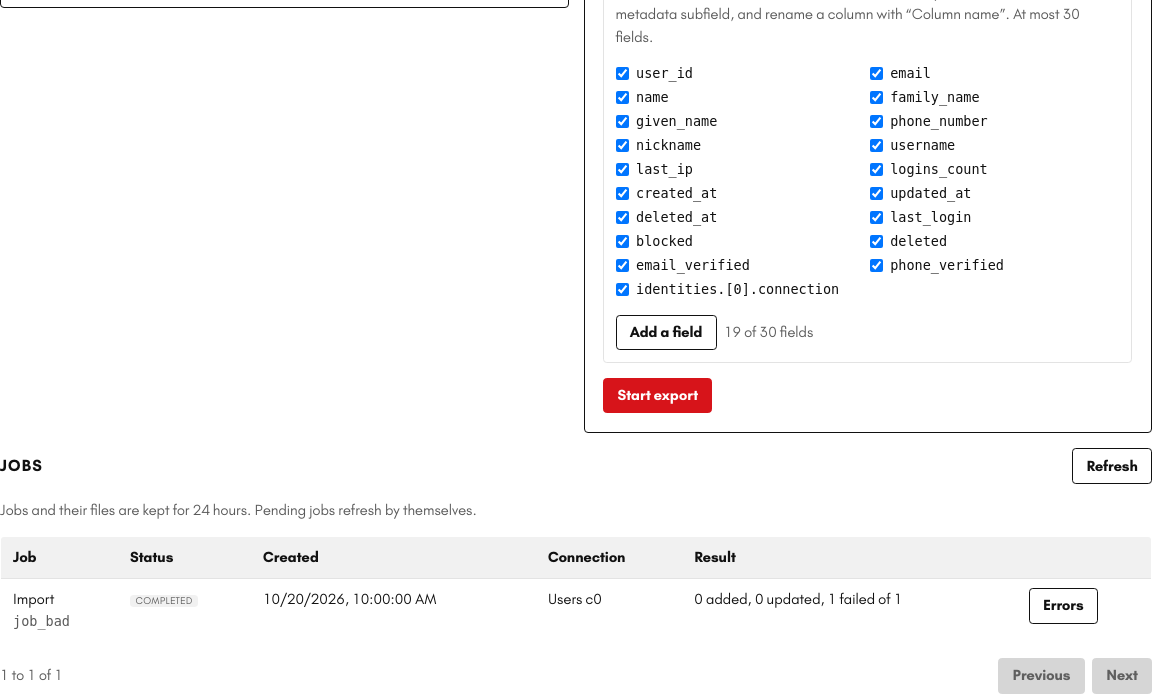
Scenario: errors view › says so when no record failed, when the job has none (204), and when the job failed as a whole
(page scrolled)
Click the button "Errors" at (1063, 606), box left=1029, top=588, right=1098, bottom=624
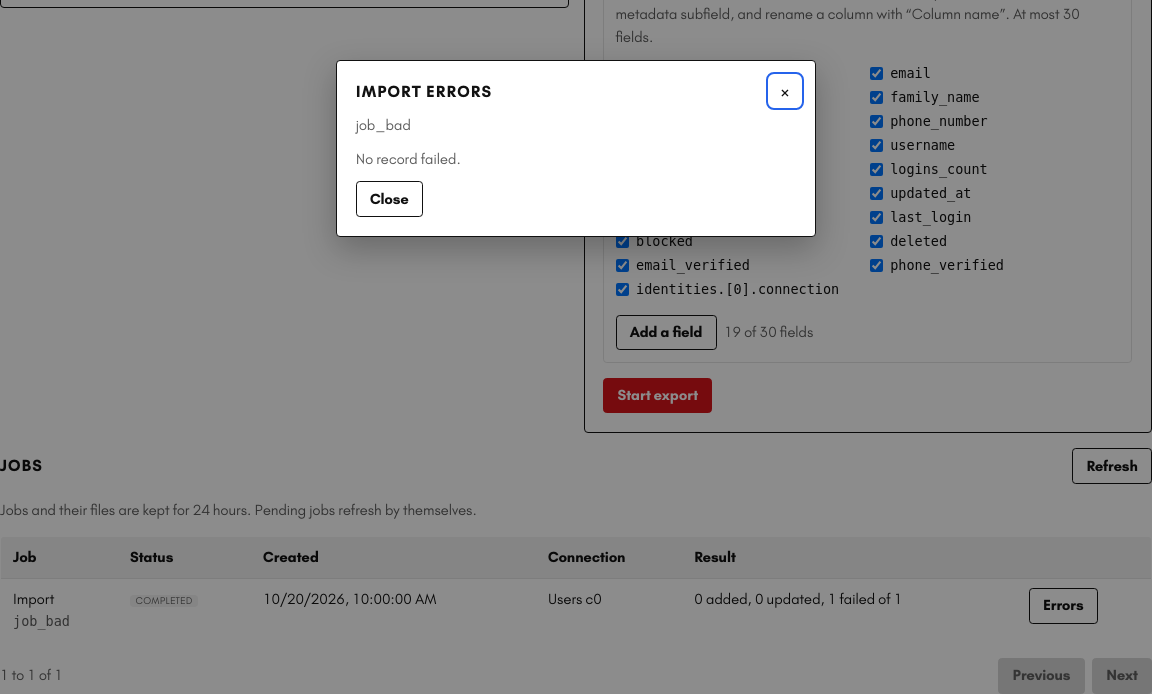
Expected: the dialog shows "No record failed.", left=356, top=150, right=461, bottom=168
Click the button "Close" at (389, 199), box left=356, top=181, right=423, bottom=217
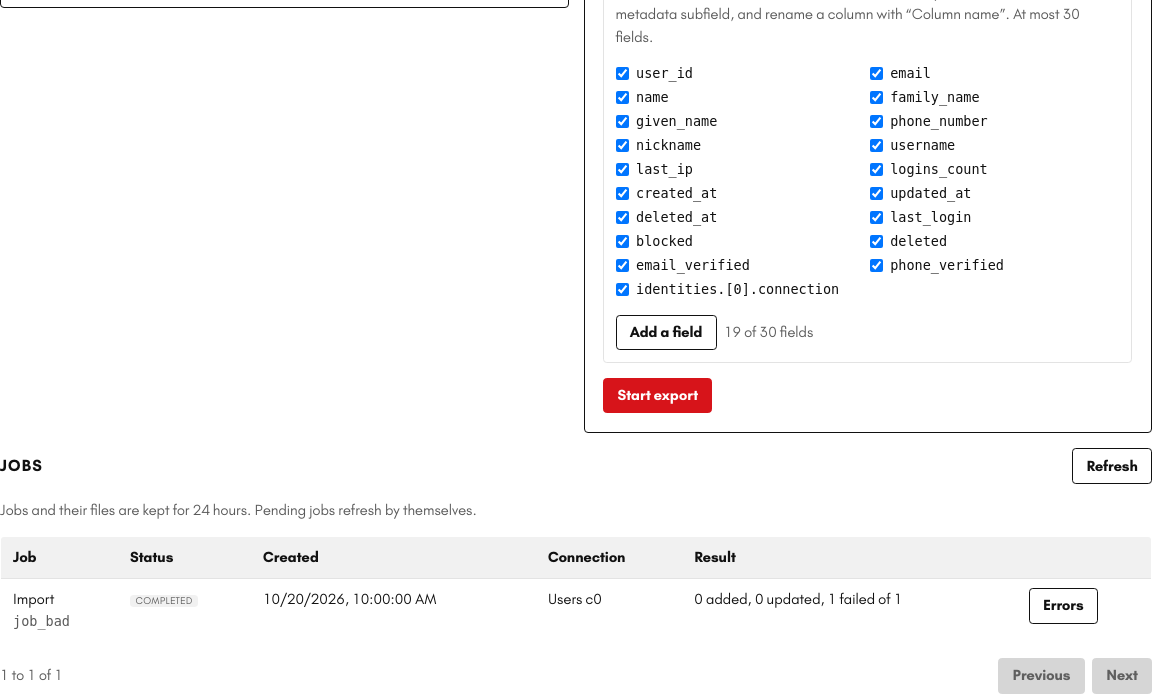
Click the button "Errors" at (1063, 606), box left=1029, top=588, right=1098, bottom=624
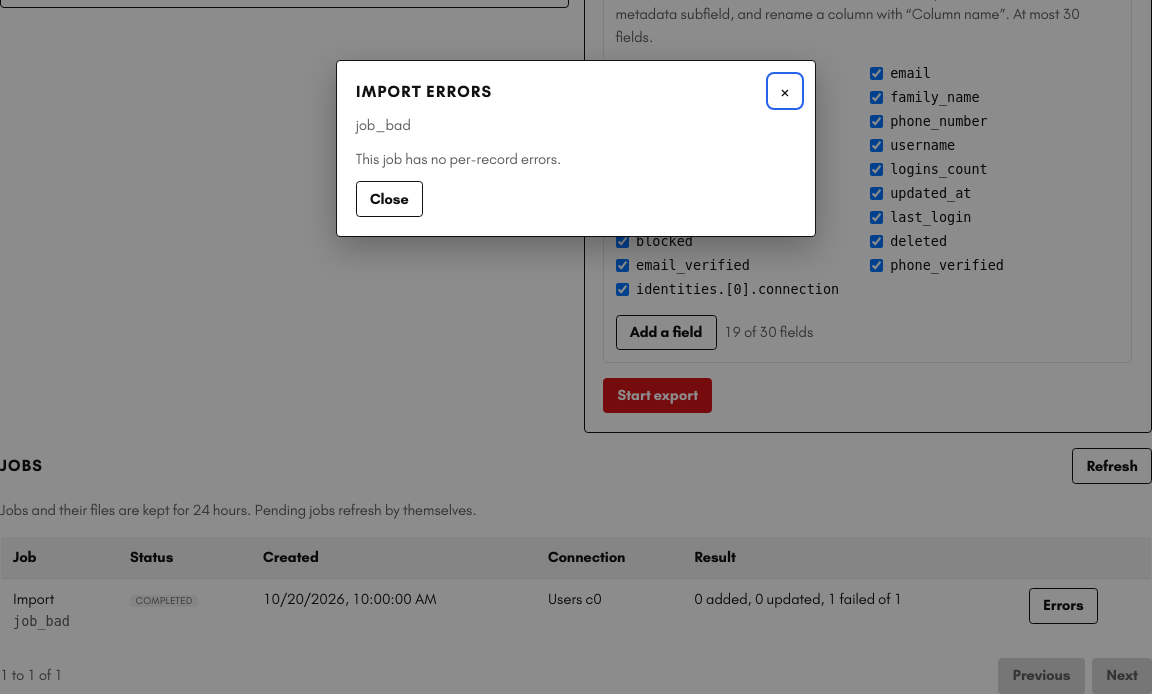
Expected: the dialog shows "no per-record errors", left=356, top=150, right=562, bottom=168
Click the button "Close" at (389, 199), box left=356, top=181, right=423, bottom=217
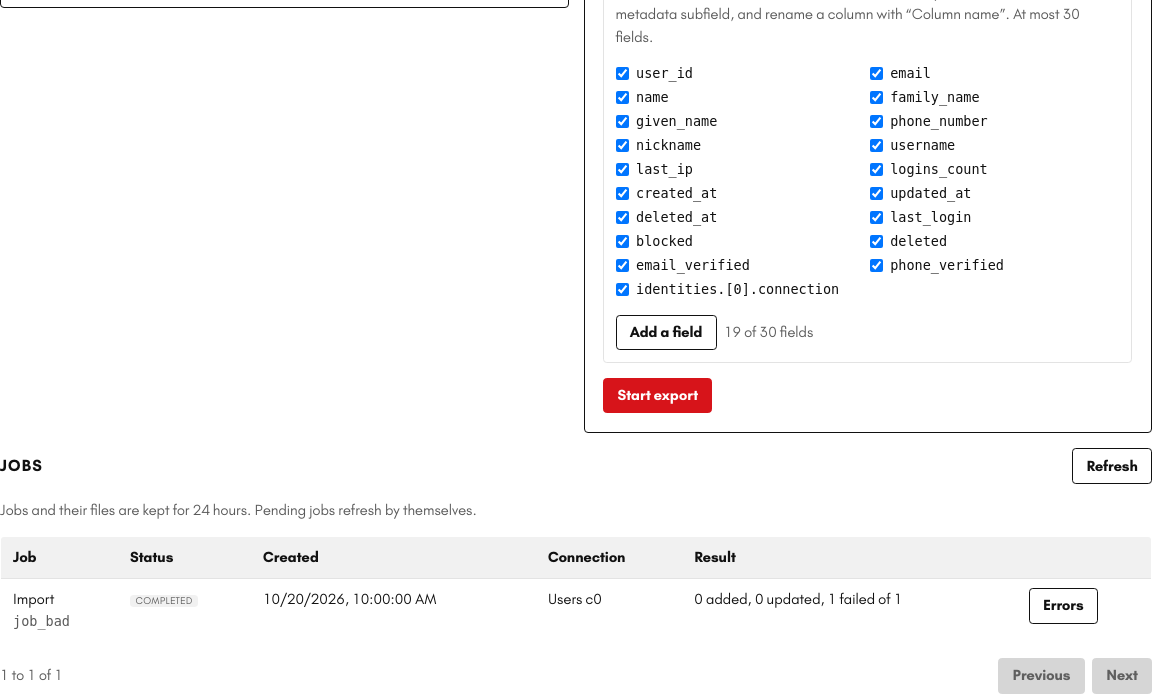
Click the button "Errors" at (1063, 606), box left=1029, top=588, right=1098, bottom=624
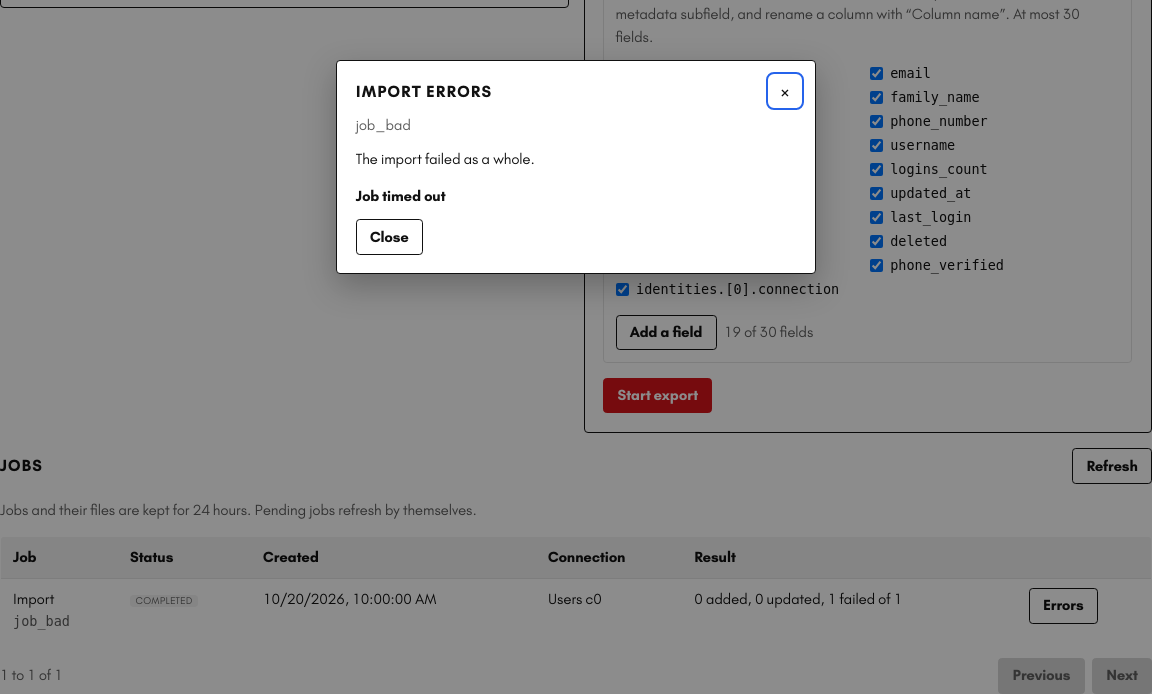
Expected: the dialog shows "Job timed out", left=356, top=187, right=446, bottom=205
